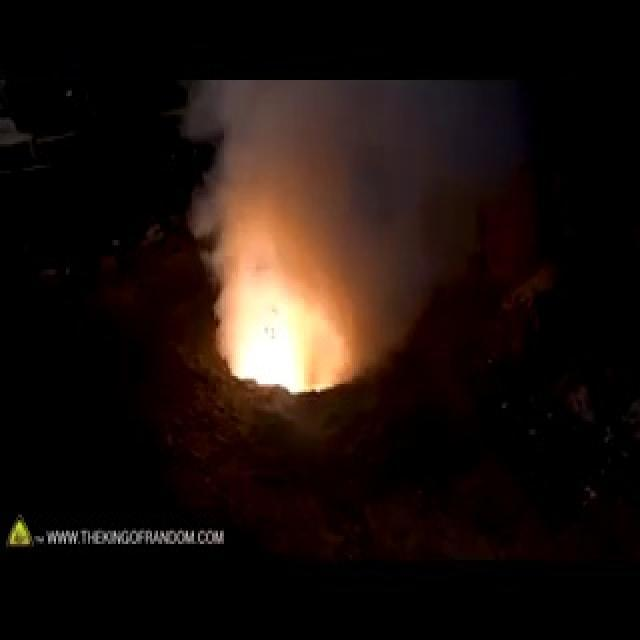Fire: (209, 178, 411, 454)
